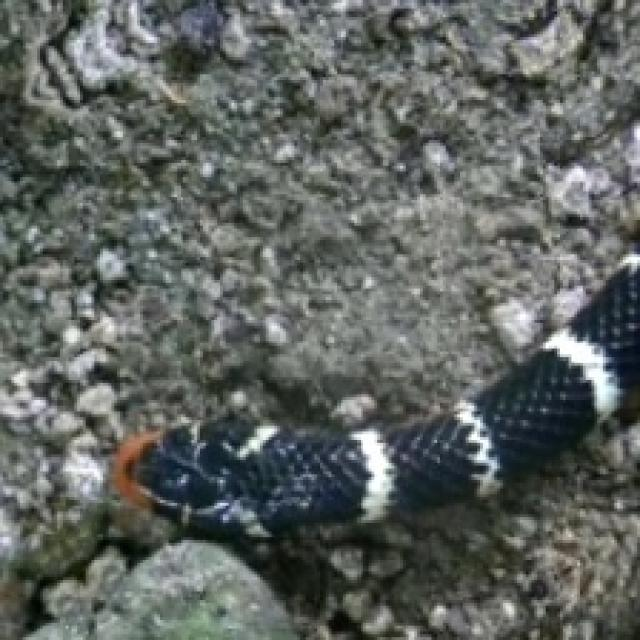barredcoral snake: (111, 251, 637, 534)
